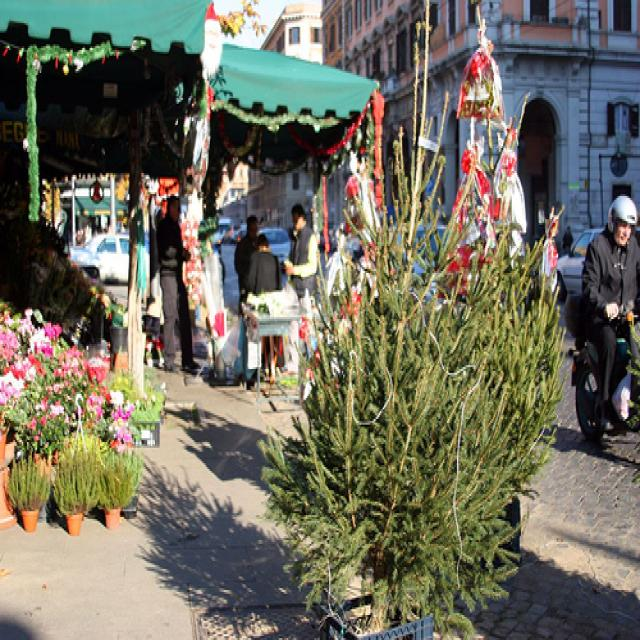motor: (567, 294, 640, 438)
